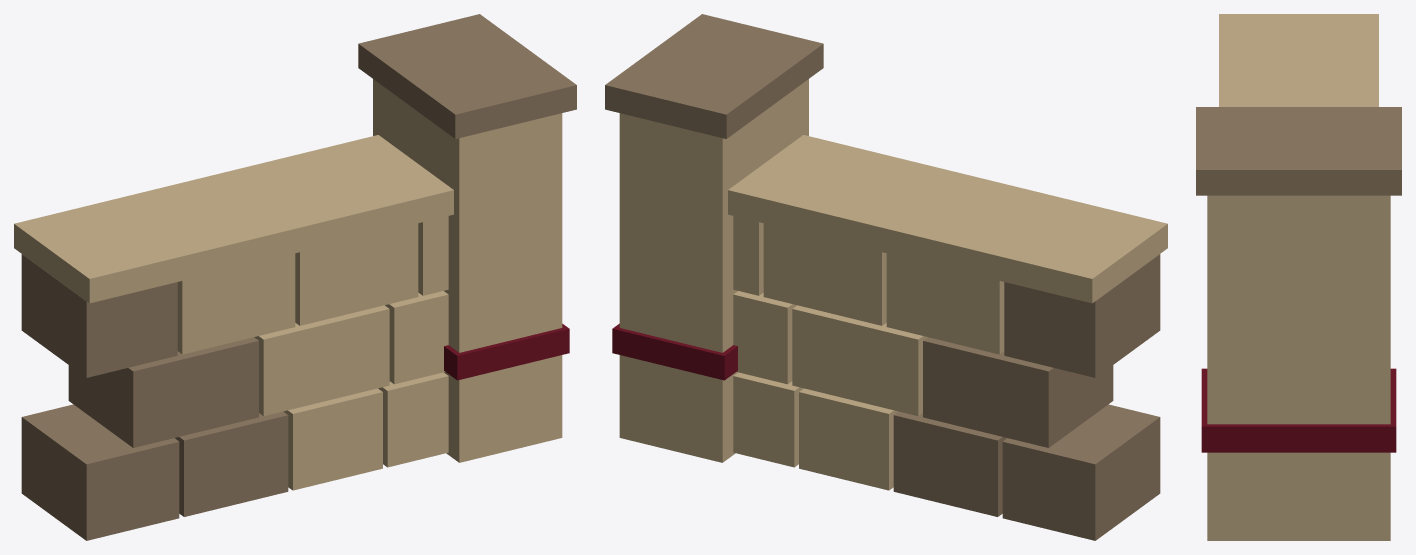
Rendered from bridge_parapet.glb.
3 renders of one model, left to right at view 1: azimuth 30°, elevation 25°; view 2: azimuth 150°, elevation 25°; view 3: azimuth 270°, elevation 25°, orthographic. The views are drawn at different scales.
Visible parts, largest first — view 1: bridge_parapet; view 2: bridge_parapet; view 3: bridge_parapet.
Part boxes in pixels (x1,y1,x2,y2): bridge_parapet: (14,14,576,540); bridge_parapet: (605,14,1167,540); bridge_parapet: (1196,14,1401,540).
Bounding box in the file's own units: 1.02 × 0.725 × 0.36.
